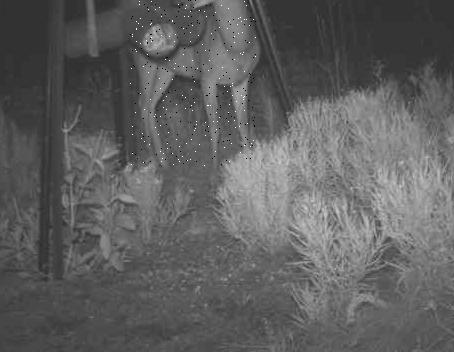Deer: (130, 0, 256, 166)
